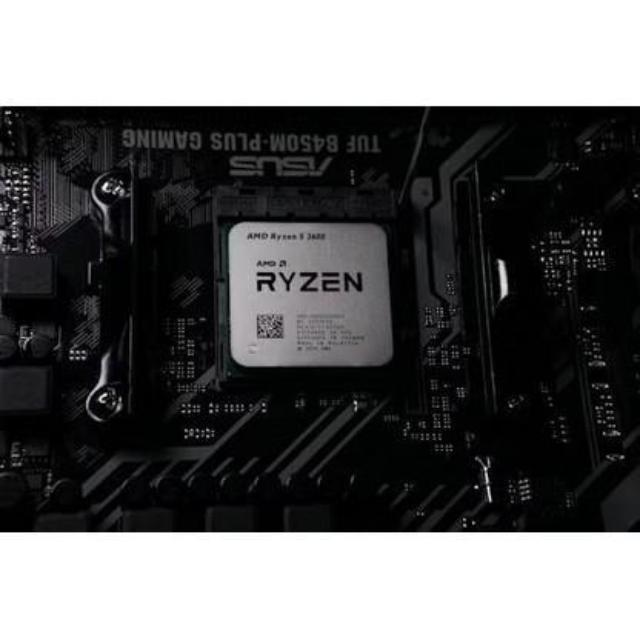CPU: (221, 218, 401, 372)
